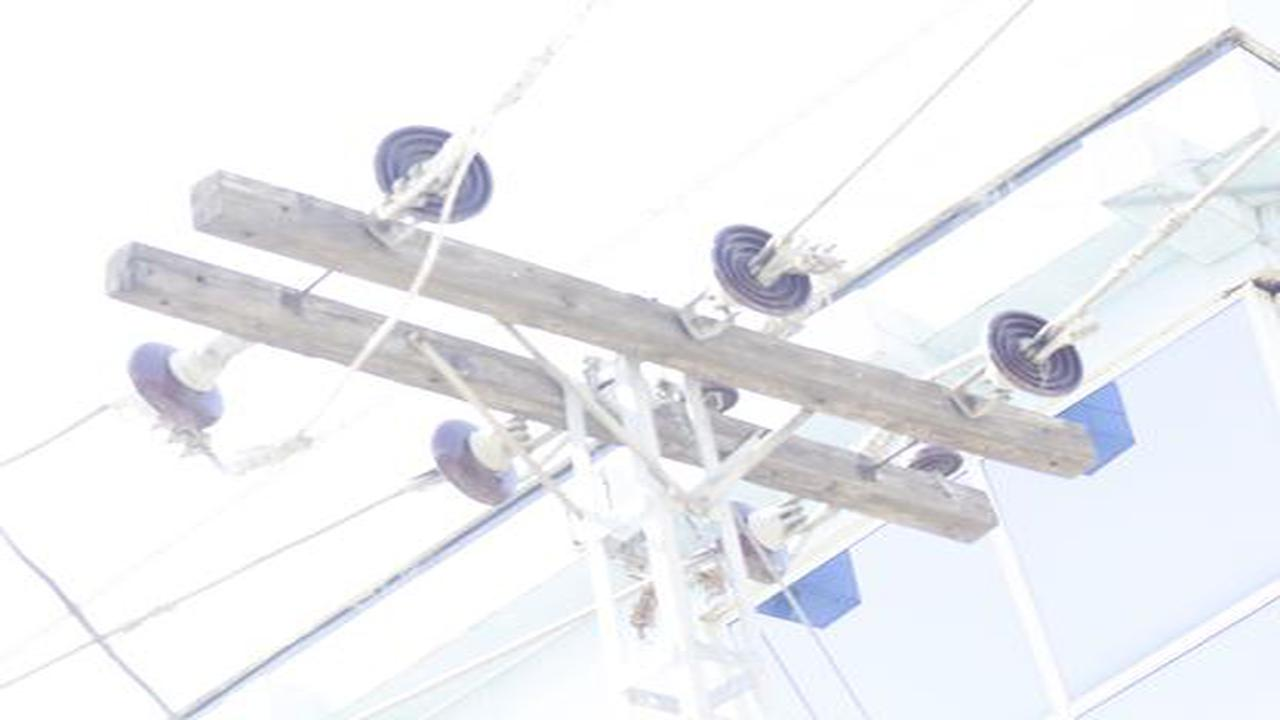insulator_disc: (370, 119, 496, 223), (708, 220, 815, 317), (976, 309, 1089, 399), (126, 333, 228, 430), (427, 414, 530, 508), (733, 488, 806, 591)
